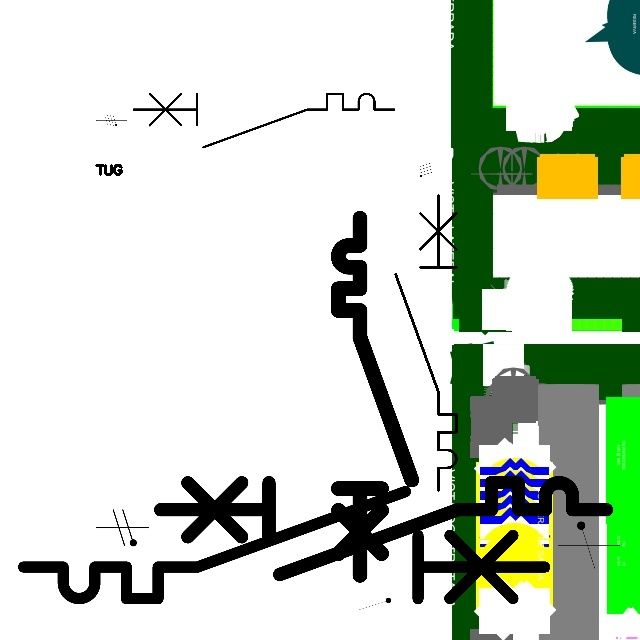interruptor_termomagnetico: (10, 478, 558, 612), (149, 471, 618, 586), (329, 209, 421, 584), (388, 188, 464, 498), (127, 87, 401, 154)
